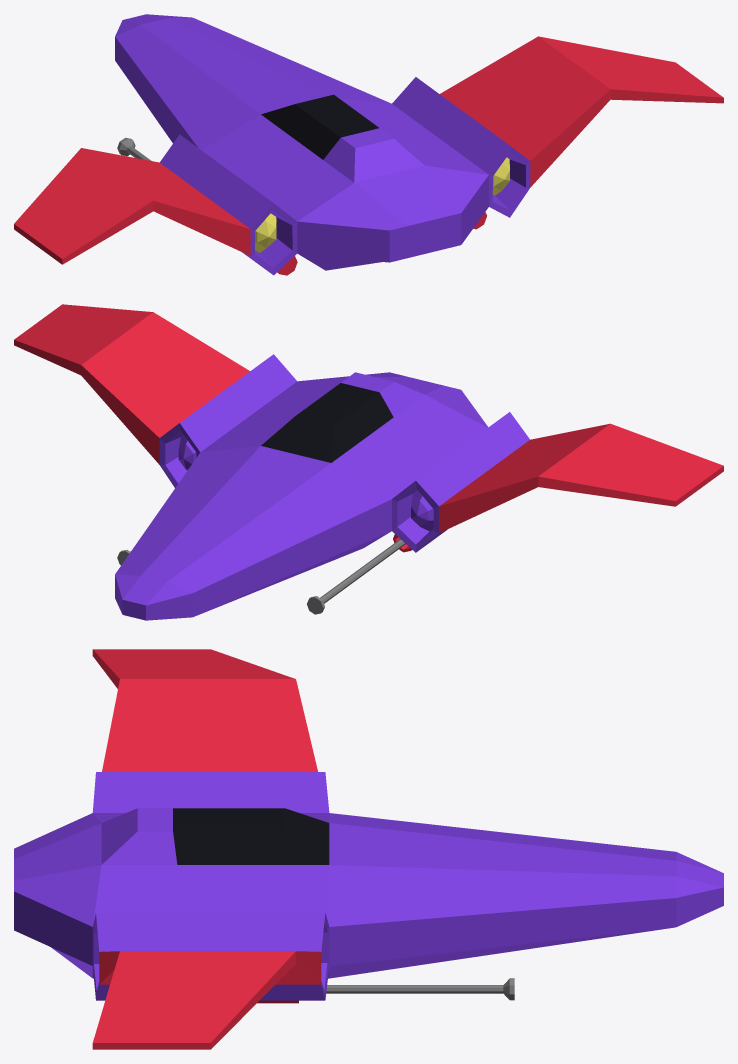
File: Spaceship_Lowpoly.fbx
3 views of the same model, one above another, from view 1: azimuth 30°, elevation 25°; view 2: azimuth 150°, elevation 25°; view 3: azimuth 270°, elevation 25° (orthographic). The views are drawn at different scales.
Parts seen in each view (by area): view 1: Cylinder.001, Ship_01; view 2: Cylinder.001, Ship_01; view 3: Cylinder.001, Ship_01.
Part boxes in pixels (left/top/right/bottom): Cylinder.001: left=14, top=14, right=723, bottom=275; Ship_01: left=14, top=14, right=723, bottom=275; Cylinder.001: left=14, top=304, right=602, bottom=620; Ship_01: left=14, top=304, right=723, bottom=619; Cylinder.001: left=14, top=649, right=723, bottom=1048; Ship_01: left=60, top=649, right=723, bottom=1049.
Bounding box in the file's own units: 1847 × 287 × 1407.
